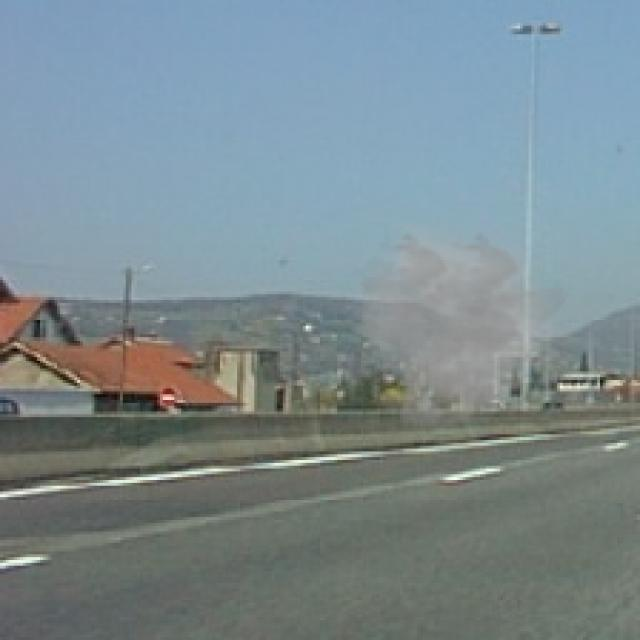smoke: (346, 223, 571, 443)
